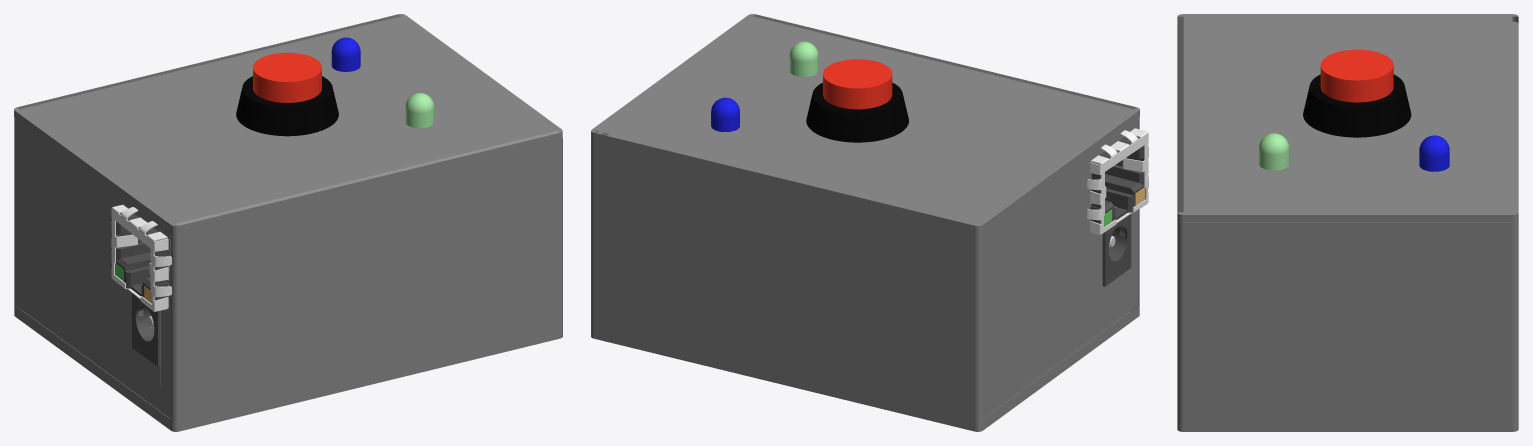
The model's file is cajaMPNcerradaEthermet.glb.
3 renders of one model, left to right at view 1: azimuth 30°, elevation 25°; view 2: azimuth 150°, elevation 25°; view 3: azimuth 270°, elevation 25°, orthographic. The views are drawn at different scales.
Visible parts, largest first — view 1: caja.002, tapa.002, boton.002, obj8.002, obj5.007, plugEliminador, ledVerde.002, ledAzul.002; view 2: caja.002, tapa.002, boton.002, obj8.002, obj5.007, plugEliminador, ledVerde.002, ledAzul.002; view 3: caja.002, tapa.002, boton.002, ledVerde.002, ledAzul.002.
Part boxes in pixels (x1,y1,x2,y2): caja.002: [14, 118, 562, 431]; tapa.002: [14, 14, 562, 233]; boton.002: [236, 52, 338, 136]; obj8.002: [111, 204, 171, 311]; obj5.007: [115, 213, 167, 303]; plugEliminador: [132, 293, 160, 366]; ledVerde.002: [405, 93, 434, 128]; ledAzul.002: [331, 37, 360, 71]; caja.002: [591, 118, 1139, 431]; tapa.002: [591, 14, 1139, 233]; boton.002: [806, 59, 908, 142]; obj8.002: [1087, 128, 1148, 234]; obj5.007: [1090, 137, 1145, 226]; plugEliminador: [1102, 214, 1131, 286]; ledVerde.002: [789, 41, 818, 76]; ledAzul.002: [711, 97, 739, 131]; caja.002: [1177, 21, 1518, 431]; tapa.002: [1177, 14, 1518, 222]; boton.002: [1303, 49, 1411, 137]; ledVerde.002: [1259, 133, 1289, 170]; ledAzul.002: [1419, 135, 1449, 171].
Size of the model in its own units: 80.94 by 48.66 by 56.1.
12 materials, 1 textured.
